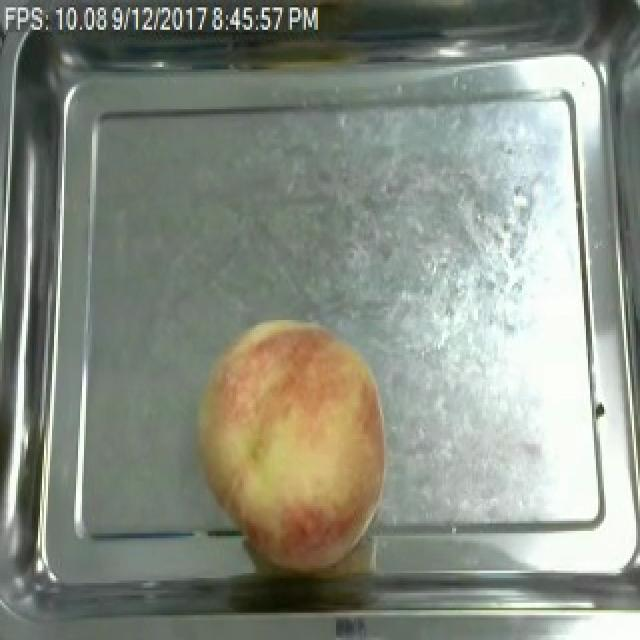Fruit: (192, 310, 392, 531)
